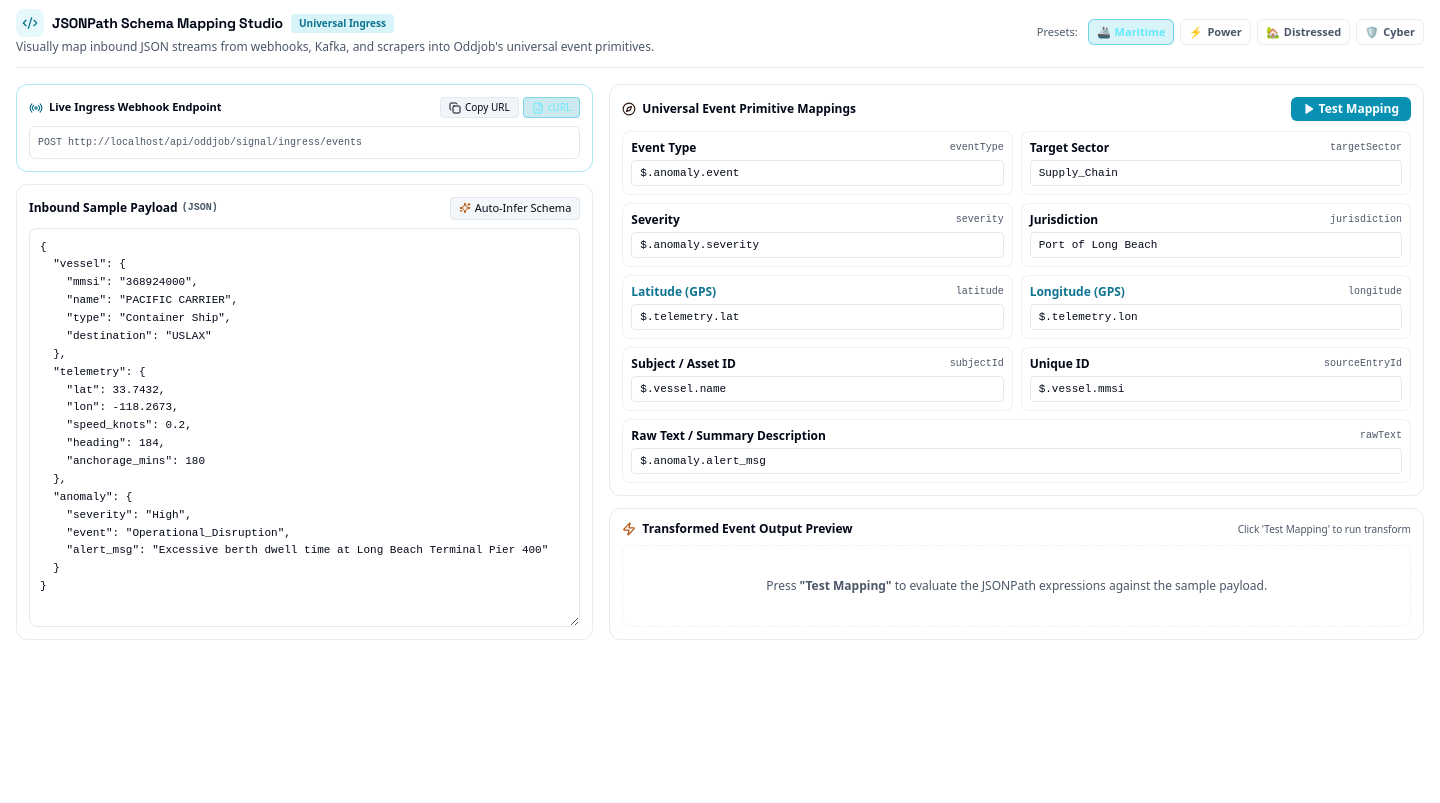
Scenario: JsonPathSchemaMapper › runs test mapping and renders the transformed event preview
Step 1. Click the button "Test Mapping" → x=1351, y=109, box [1291,97,1411,121]
(page scrolled)
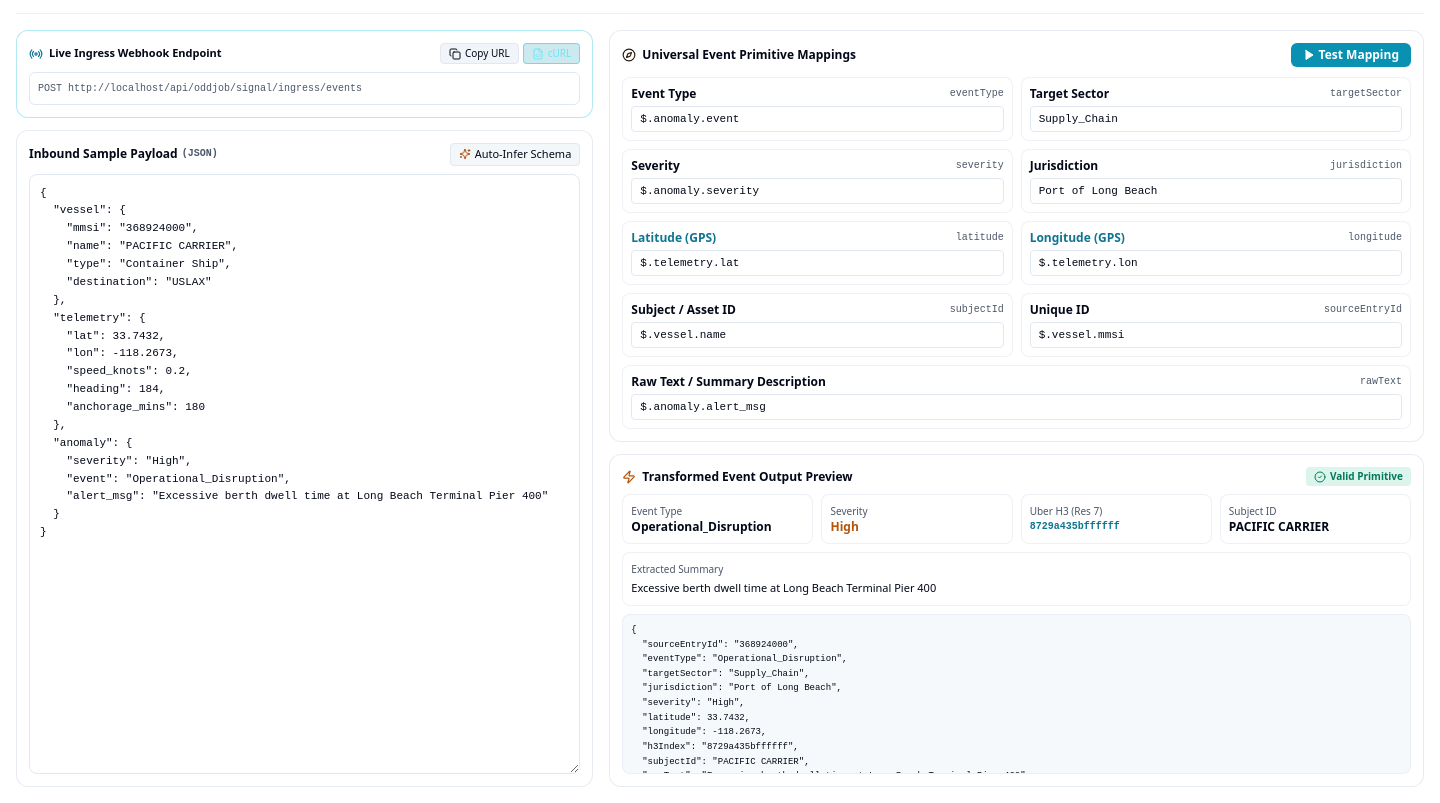
Expected: the text box "PACIFIC CARRIER" is shown, [29,174,580,774]
Expected: the text "Valid Primitive" is shown, [1330,469,1403,484]
Expected: the text "8729a435bffffff" is shown, [1030,521,1120,532]
